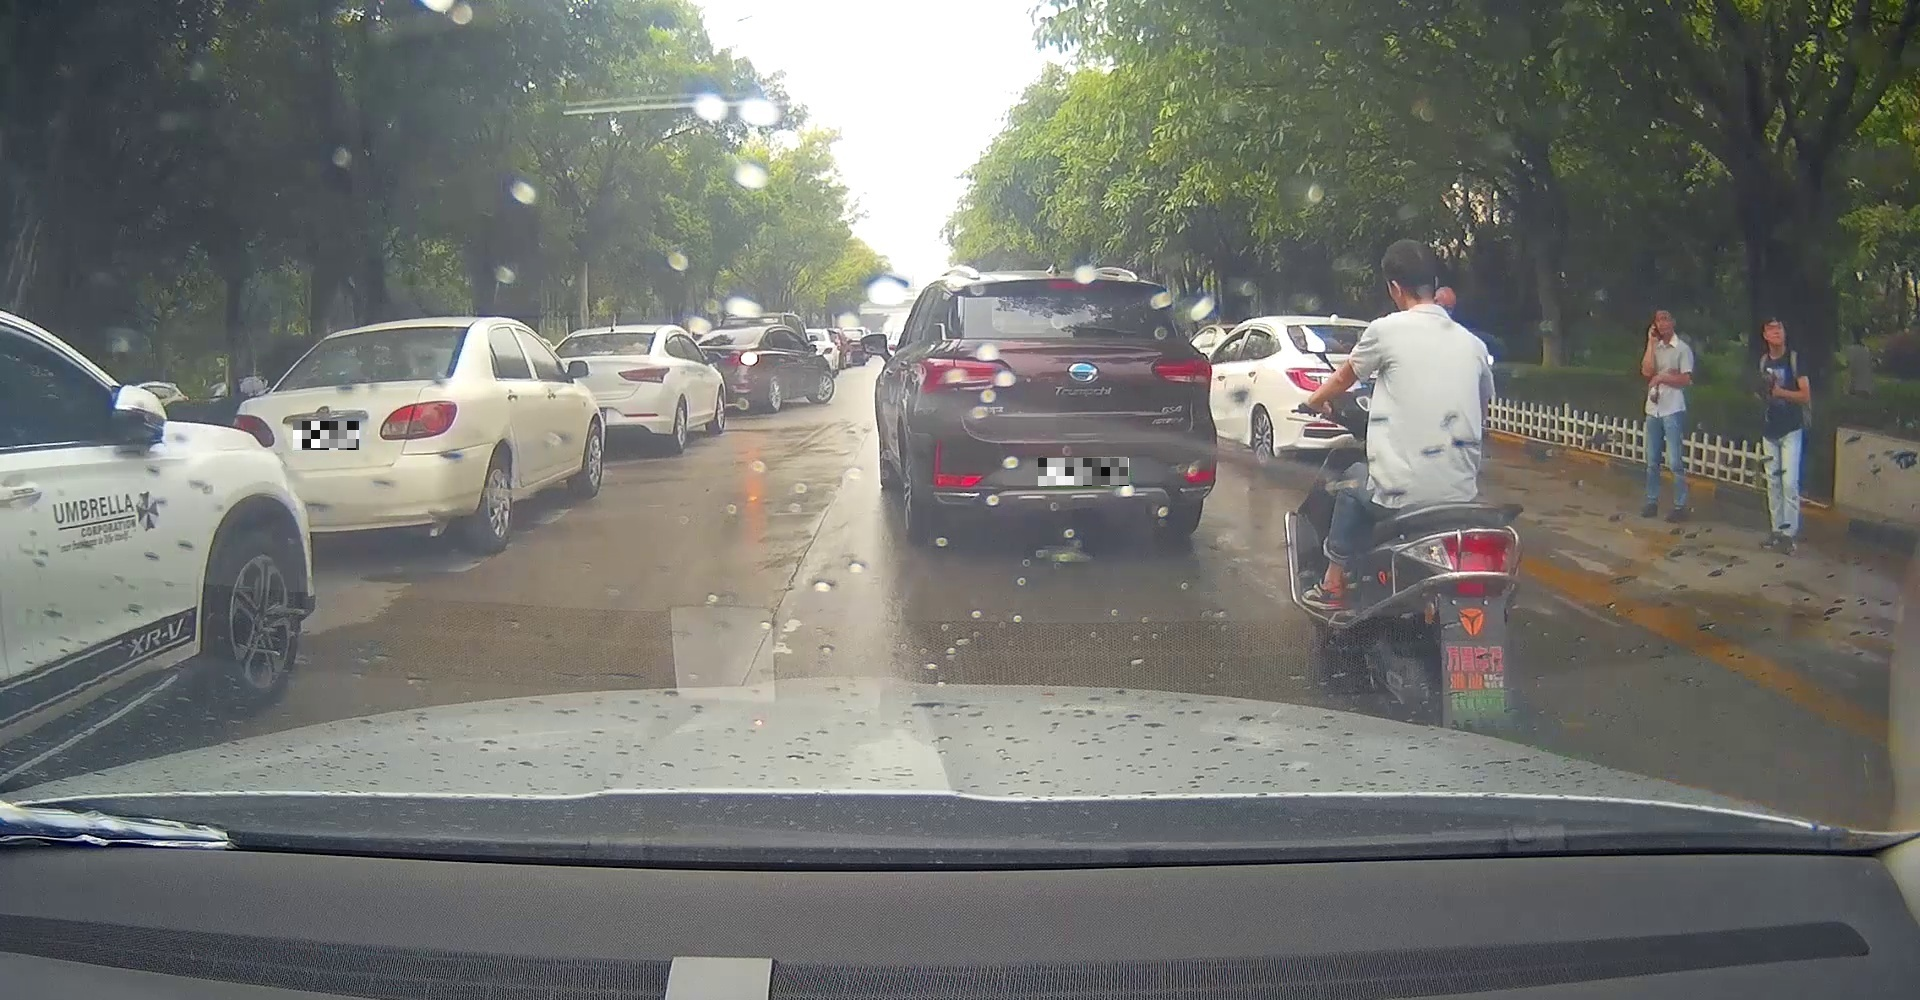L_light: (919, 357, 1013, 395), (231, 414, 276, 449)
R_light: (378, 398, 458, 442), (1152, 355, 1213, 385)
T_light: (1048, 280, 1105, 289), (372, 330, 399, 335)
day-no: (912, 270, 1220, 542), (230, 315, 471, 558)
plate_1: (293, 421, 359, 451)
plate_2: (1037, 458, 1129, 486)
